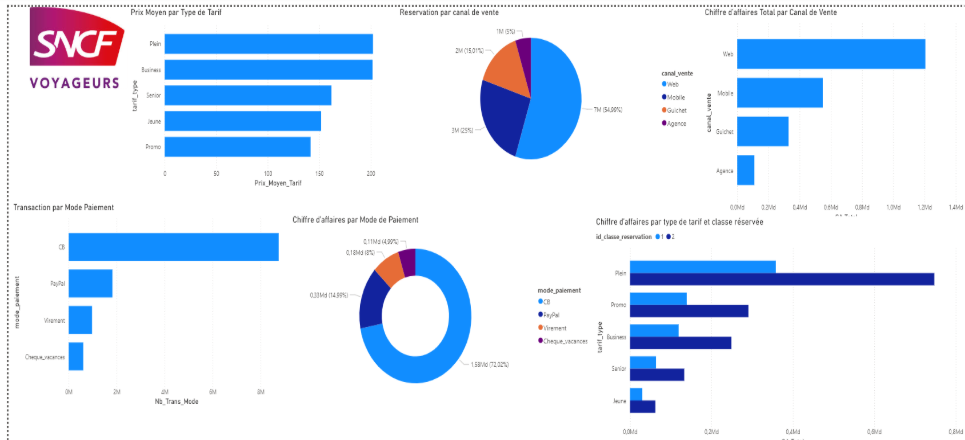

This screenshot's page, from the dashboard's own definition file:
{"tool":"powerbi","page":{"name":"Page 1","canvas":[4000,4000],"ordinal":0},"visuals":[{"type":"image","box":[0,0,325.9,157.9],"z":0},{"type":"pieChart","title":"Reservation par canal de vente ","fields":{"Category":["sncf_dw dim_canal_vente.canal_vente"],"Y":["sncf_dw f_ventes.Nb_Resa_Canal"]},"box":[908,0,712,336],"z":1000},{"type":"clusteredBarChart","title":"Prix Moyen par Type de Tarif ","fields":{"Category":["sncf_dw dim_tarif.tarif_type"],"Y":["sncf_dw f_ventes.Prix_Moyen_Tarif"]},"box":[280,0,628,354],"z":2000},{"type":"clusteredBarChart","title":"Chiffre d’affaires Total par Canal de Vente","fields":{"Category":["sncf_dw dim_canal_vente.canal_vente"],"Y":["sncf_dw f_ventes.CA Total"]},"box":[1620,0,740,420],"z":3000},{"type":"clusteredBarChart","title":"Transaction par Mode Paiement","fields":{"Category":["sncf_dw dim_mode_paiement.mode_paiement"],"Y":["sncf_dw f_ventes.Nb_Trans_Mode"]},"box":[6,378,652,400],"z":4000},{"type":"donutChart","title":"Chiffre d’affaires par Mode de Paiement ","fields":{"Category":["sncf_dw dim_mode_paiement.mode_paiement"],"Y":["sncf_dw f_ventes.CA_Mode_Paiement"]},"box":[800,402,708,376],"z":5000},{"type":"clusteredBarChart","title":"Chiffre d’affaires par type de tarif et classe réservée","fields":{"Category":["sncf_dw dim_tarif.tarif_type"],"Y":["sncf_dw f_ventes.CA Total"],"Series":["sncf_dw f_ventes.id_classe_reservation"]},"box":[1382,470,866,450],"z":6000}]}

Visuals, with their boxes on the page's 4000x4000 design canvas (x1, y1, x2, y2). These are canvas units, not pixel positions in the 965x440 screenshot, which may show the page scaled, cropped or inside an application window:
image: BBox(0, 0, 326, 158)
"Reservation par canal de vente " pieChart: BBox(908, 0, 1620, 336)
"Prix Moyen par Type de Tarif " clusteredBarChart: BBox(280, 0, 908, 354)
"Chiffre d’affaires Total par Canal de Vente" clusteredBarChart: BBox(1620, 0, 2360, 420)
"Transaction par Mode Paiement" clusteredBarChart: BBox(6, 378, 658, 778)
"Chiffre d’affaires par Mode de Paiement " donutChart: BBox(800, 402, 1508, 778)
"Chiffre d’affaires par type de tarif et classe réservée" clusteredBarChart: BBox(1382, 470, 2248, 920)
